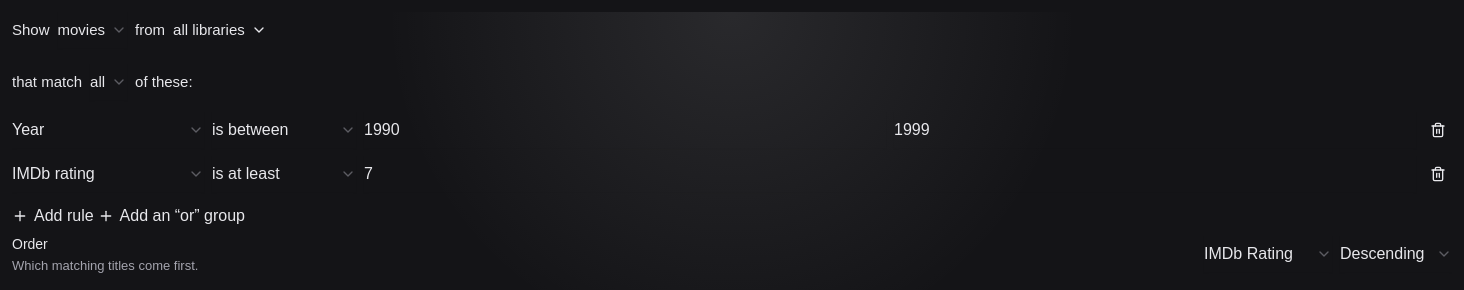
RuleBuilder › changes how the first group's rules combine from the sentence
Press the mouse on the dropdown named "How the rules combine": (108, 82) [90, 64, 127, 100]
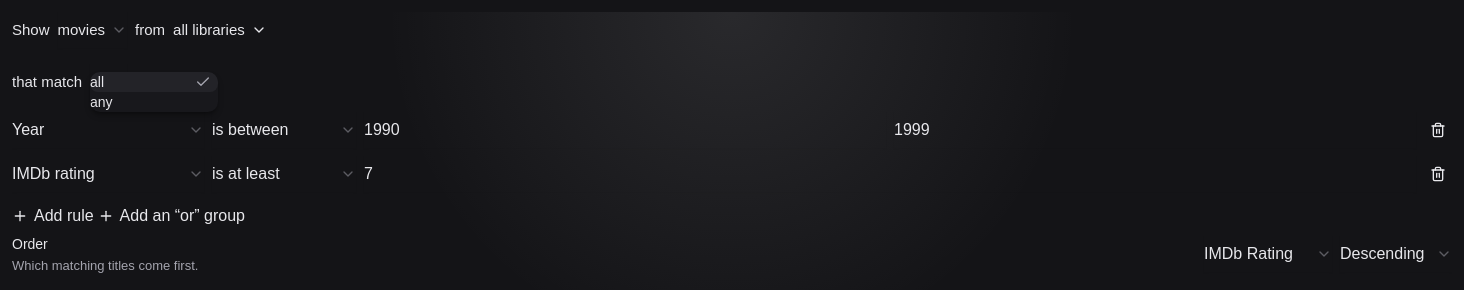
Click the option "any": click(101, 102) [90, 94, 113, 110]
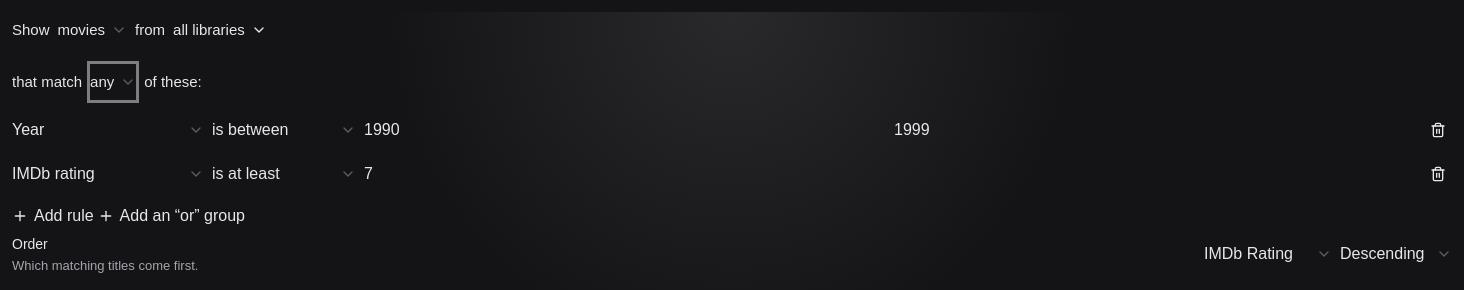
Expected: the text "any" is shown, [90, 71, 114, 93]
